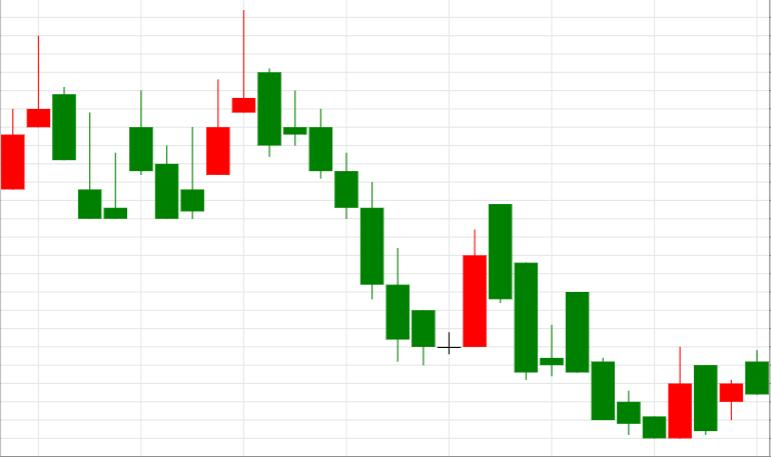bullish_engulfing_rise: (489, 205, 691, 439)
